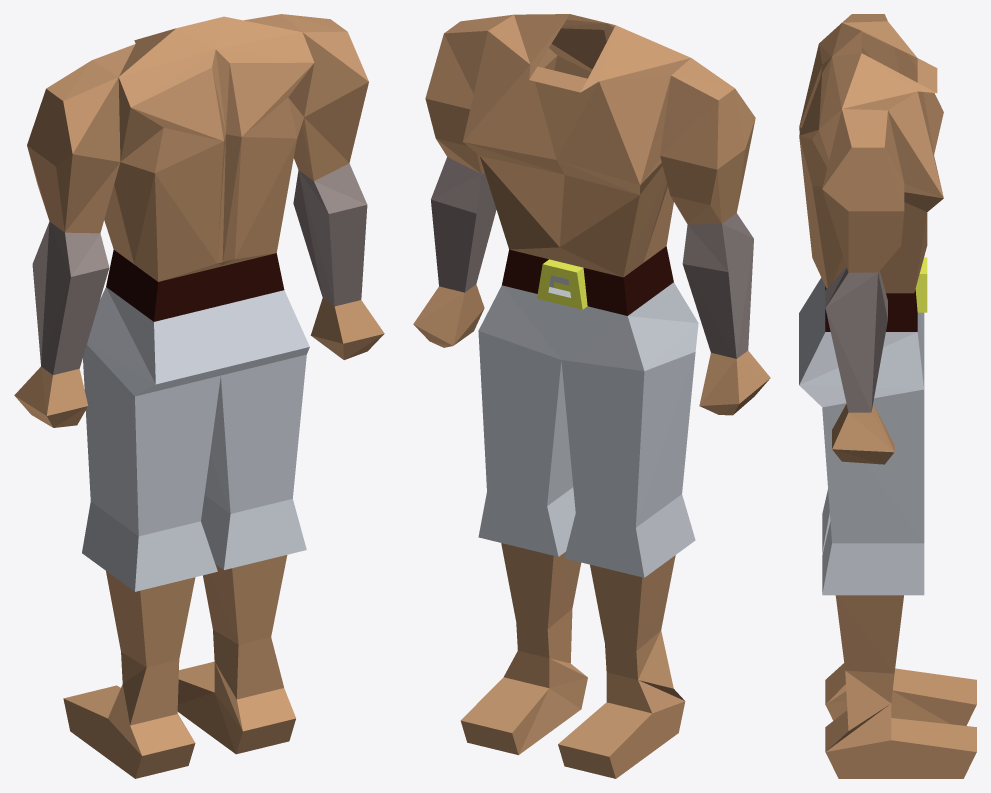
The model's file is npc_world_moss_giant_0.obj.
The picture shows the model from 3 angles, left to right: view 1: azimuth 30°, elevation 25°; view 2: azimuth 150°, elevation 25°; view 3: azimuth 270°, elevation 25°; orthographic projection. The views are drawn at different scales.
Size of the model in its own units: 0.8906 by 1.84 by 0.4219.
